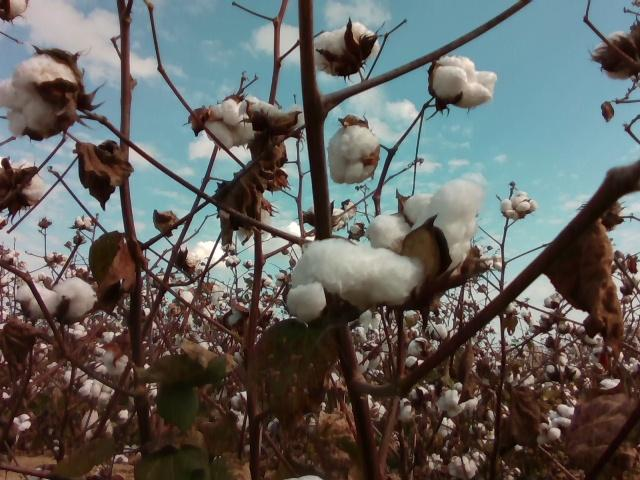cotton_ready: (369, 181, 482, 277), (285, 240, 420, 319), (0, 54, 79, 138), (15, 273, 100, 322), (314, 21, 381, 74), (430, 55, 498, 107), (327, 125, 377, 184), (206, 99, 256, 150), (245, 96, 307, 135), (3, 161, 48, 208), (238, 201, 273, 242), (0, 0, 30, 21)
